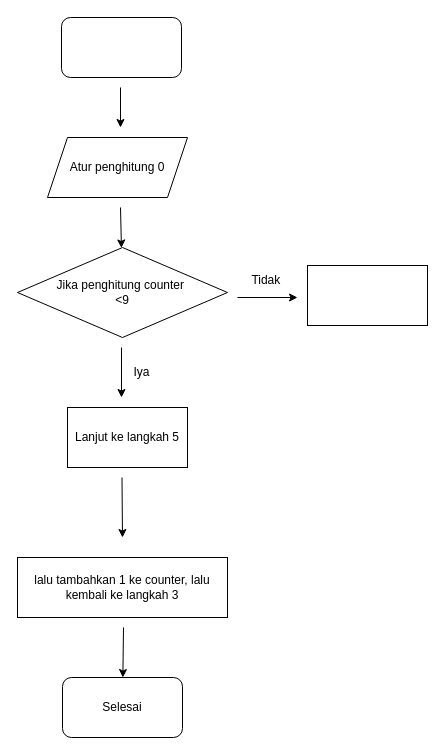
Some shapes in this 445 by 755 pixel diagram are drawn without their labels. Each missing label, with the box of its shape:
Lanjut ke langkah 6: (306, 264, 428, 326)
Mulai: (60, 16, 182, 78)
